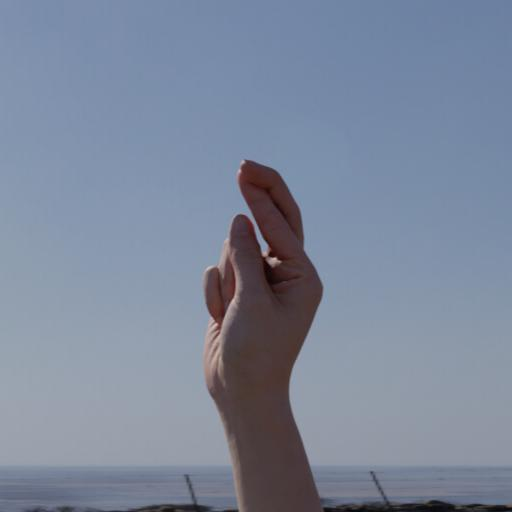R: (166, 128, 363, 454)
